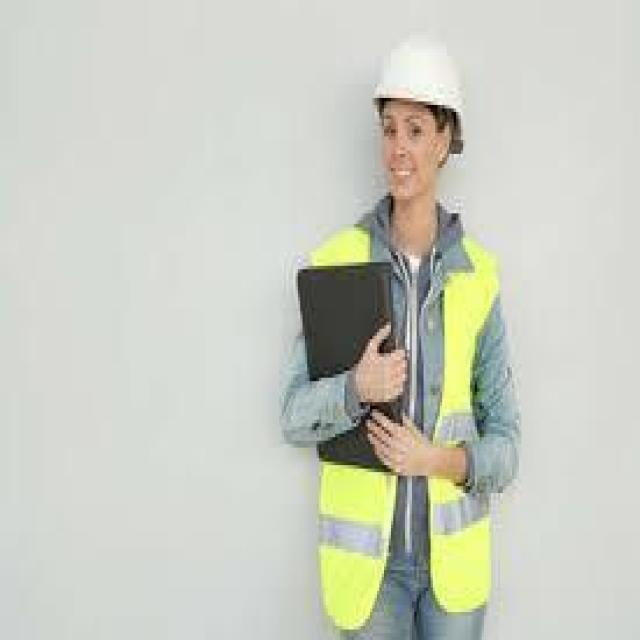safety_helmet: (286, 211, 507, 622)
